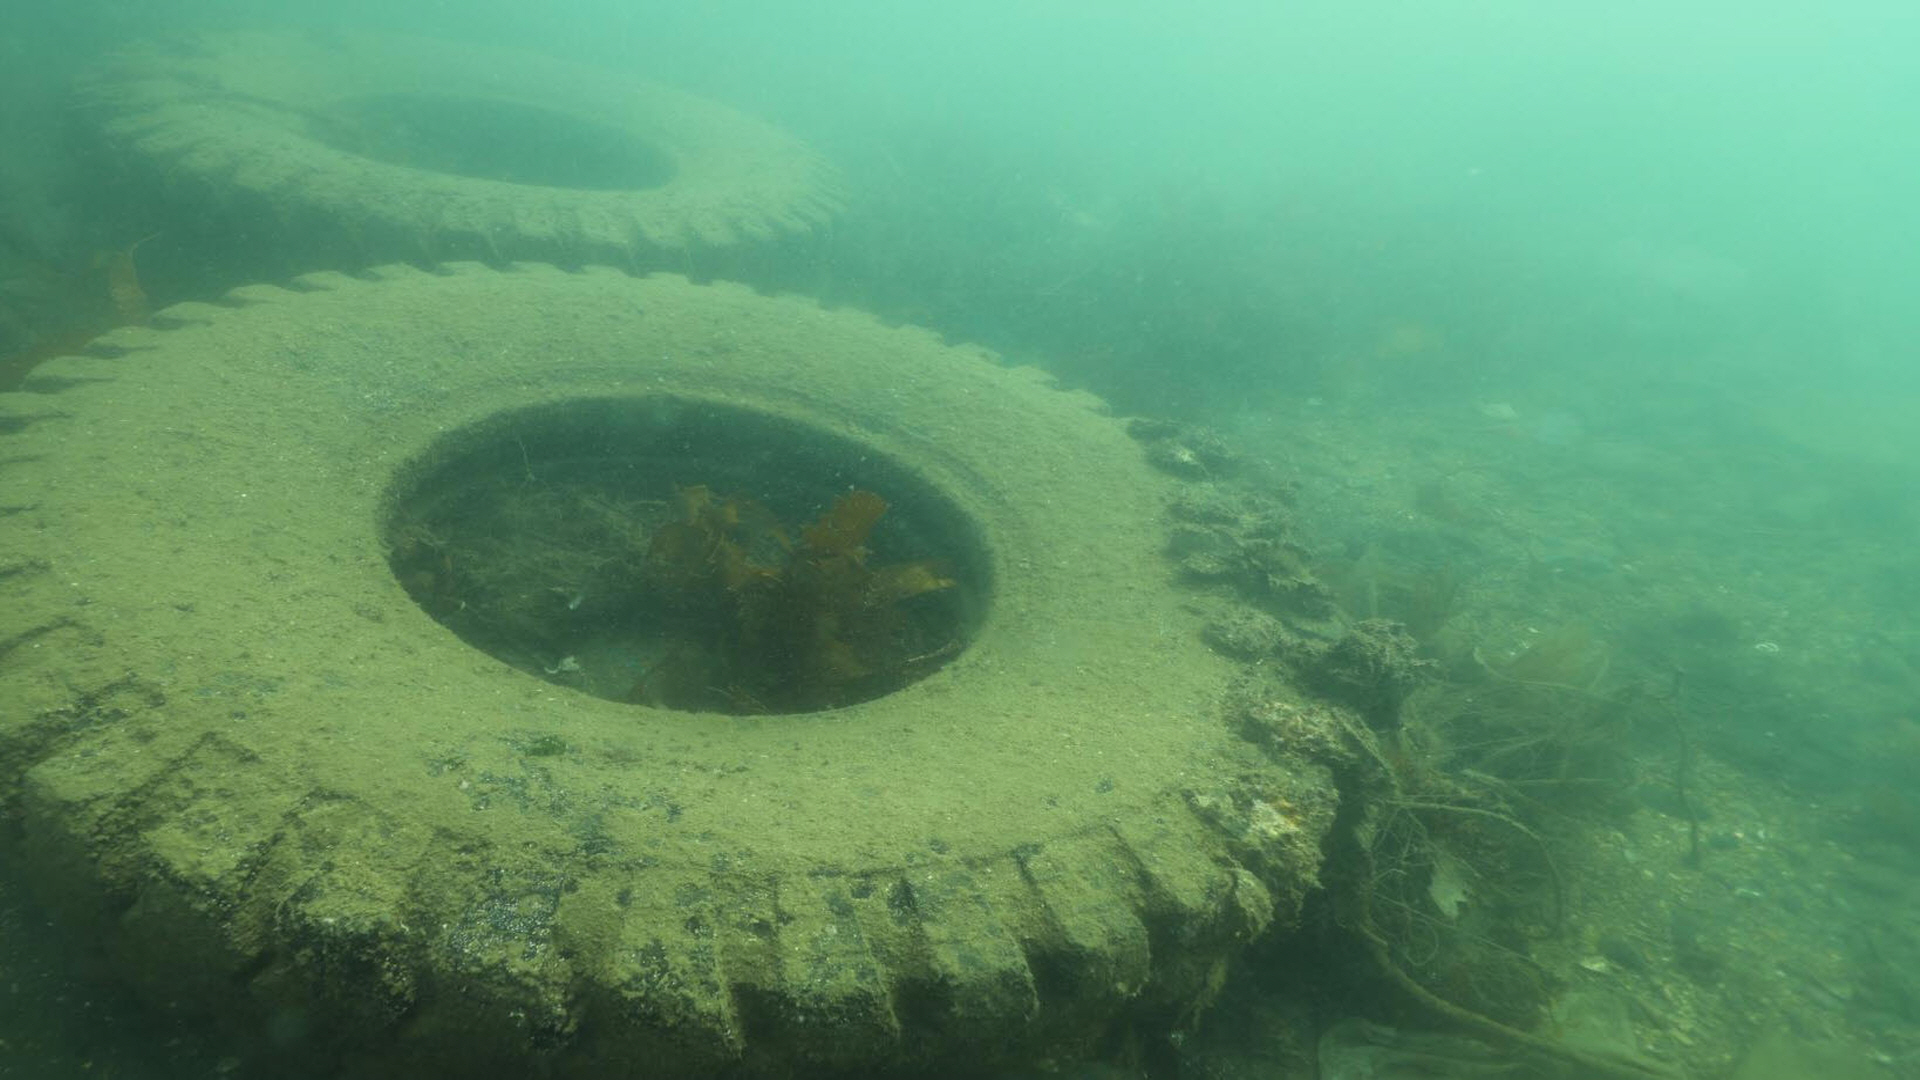tire: (0, 262, 1299, 1080), (65, 18, 866, 309)
